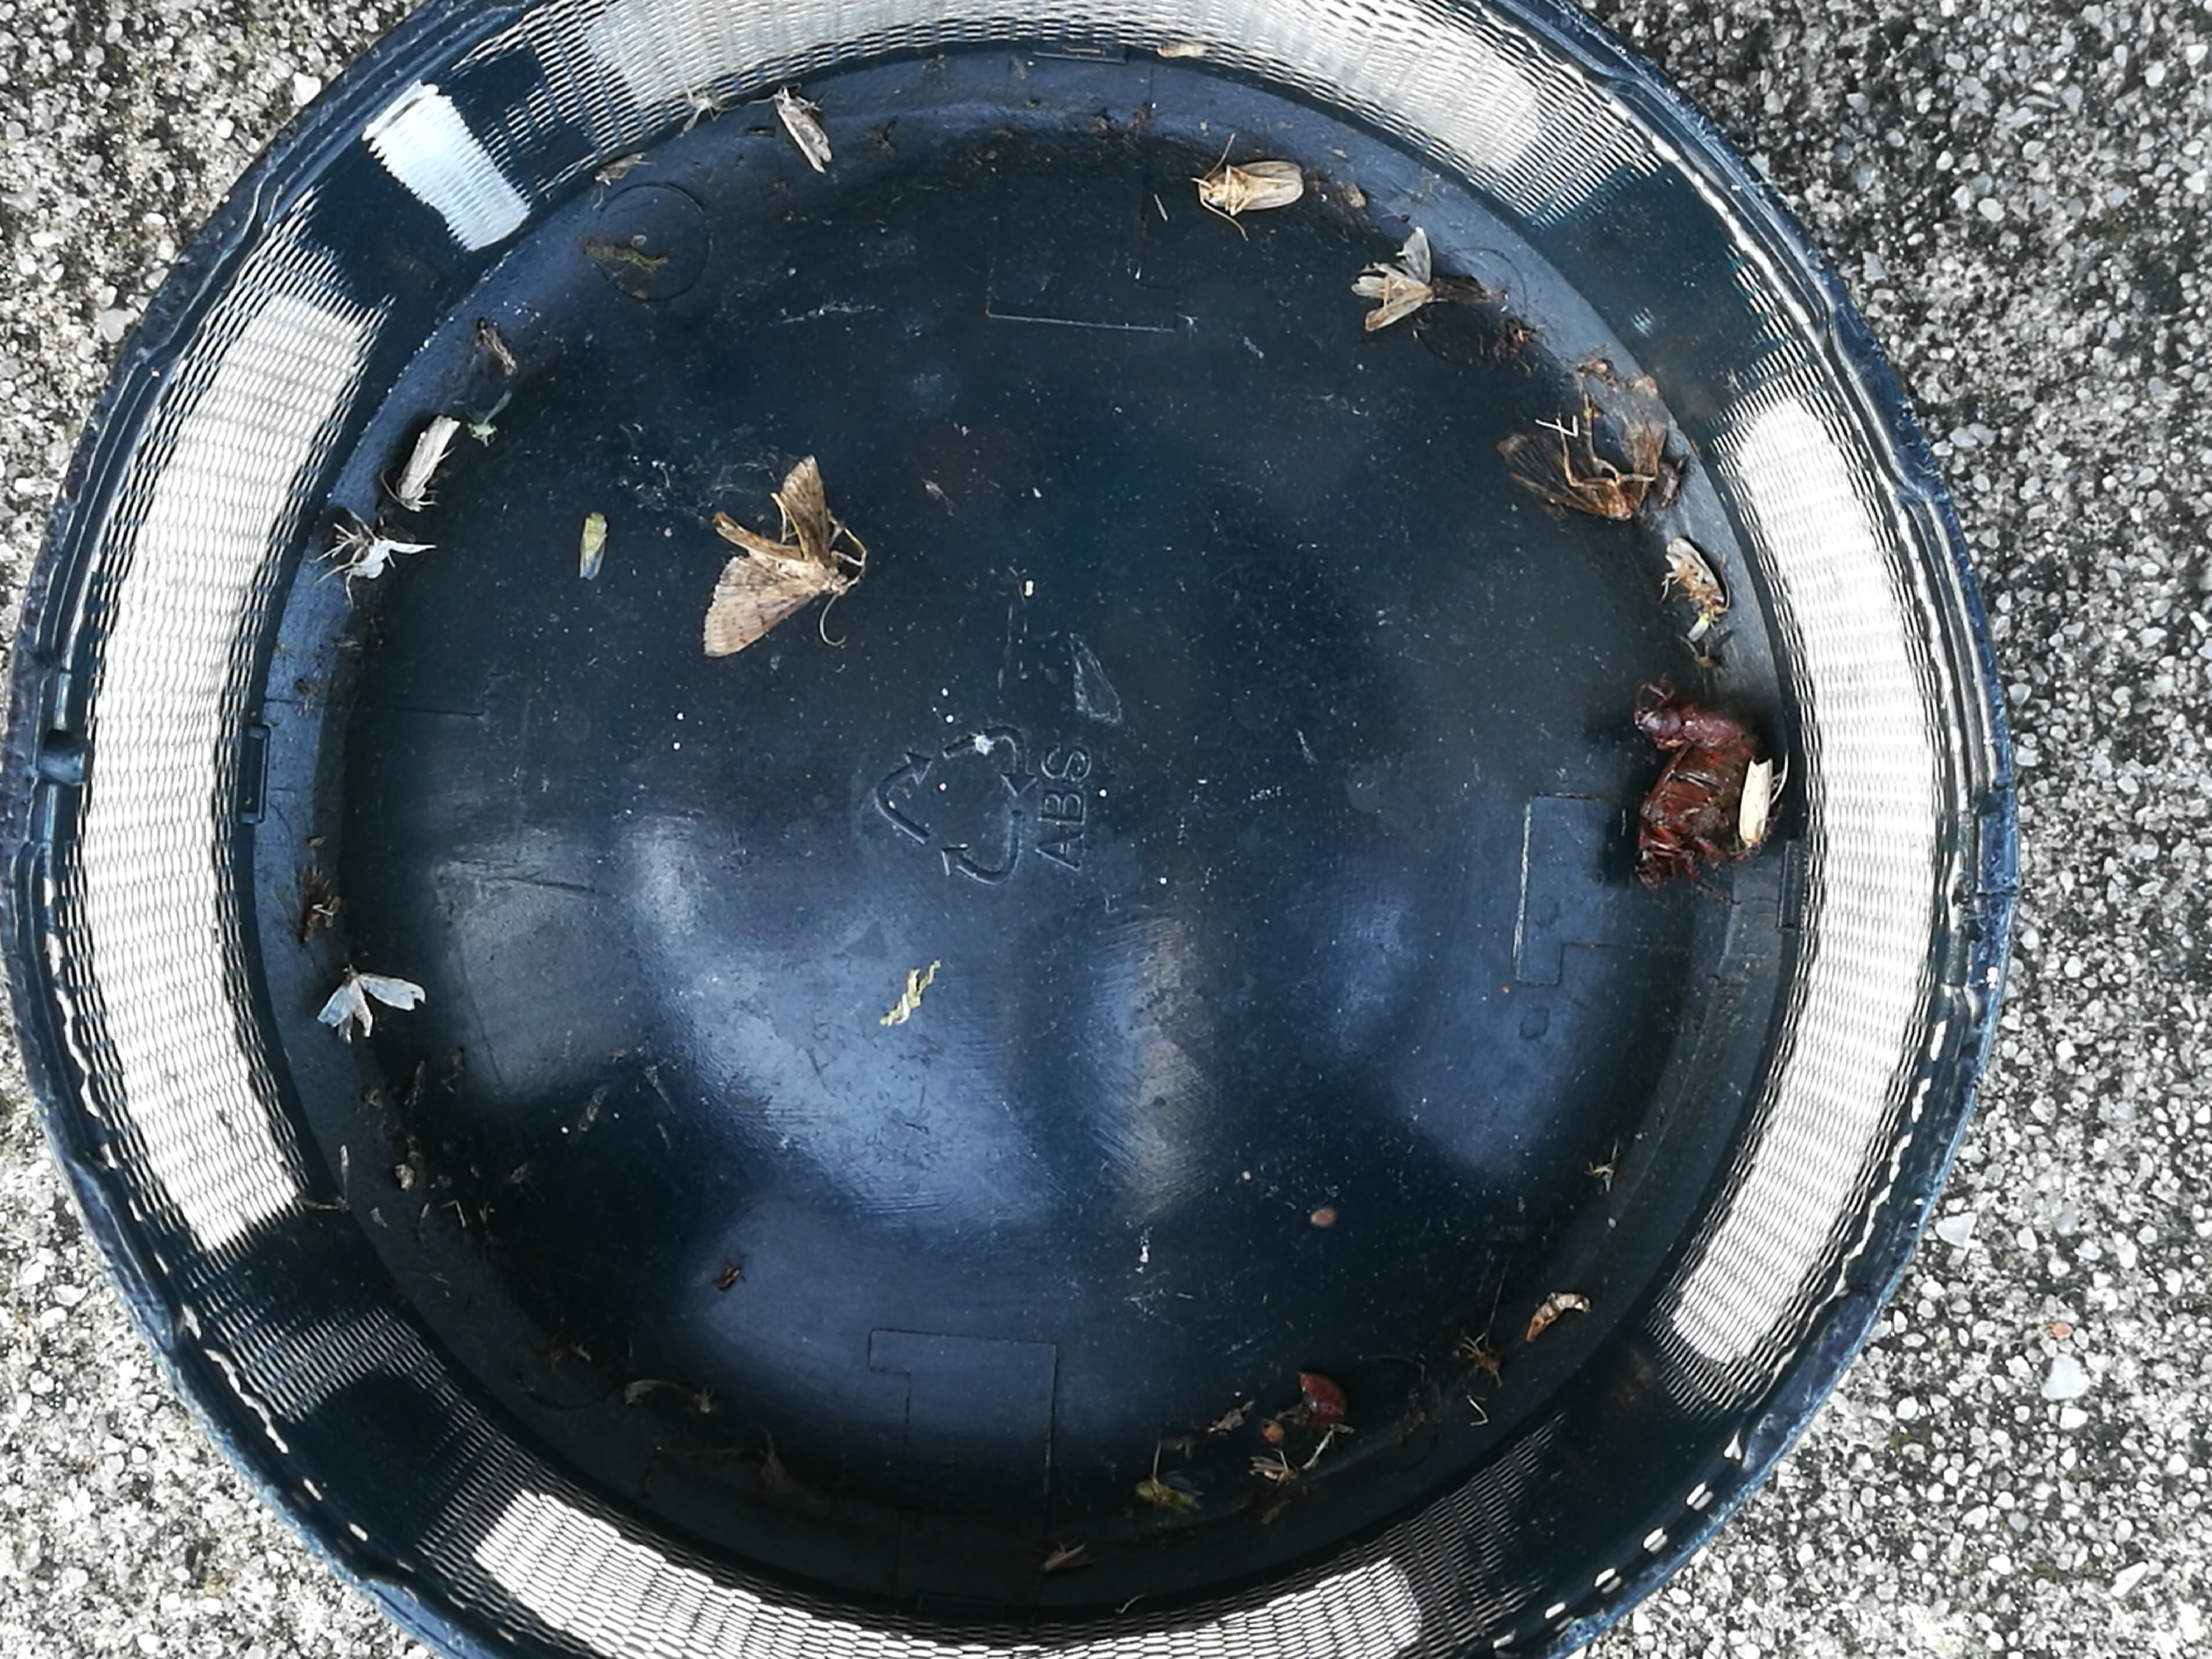beetle: (1637, 753, 1742, 884), (1635, 704, 1756, 753)
mosquito: (394, 416, 455, 511), (1665, 535, 1724, 619), (775, 91, 833, 173), (1742, 760, 1770, 845)
moth: (704, 455, 846, 657), (1498, 432, 1667, 518), (1352, 228, 1432, 331), (319, 967, 425, 1039), (1197, 162, 1303, 213)
